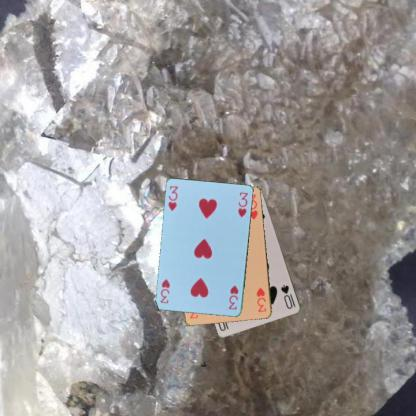10s: (278, 282, 297, 310)
3h: (226, 282, 240, 311), (254, 285, 268, 313), (166, 184, 179, 212)
